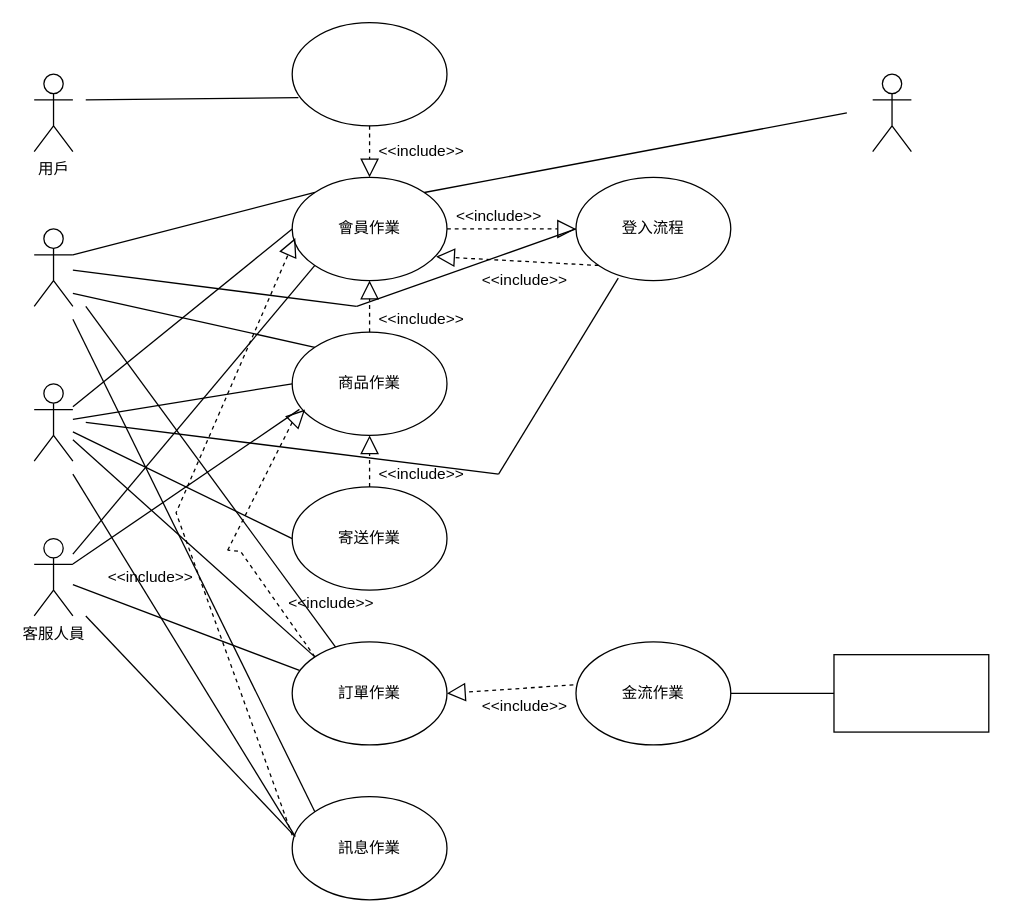
Some shapes in this 1011 by 922 pixel diagram are drawn without their labels. Each missing label, with the centre of its shape:
會員: point (53, 267)
系統人員: point (891, 112)
註冊流程: point (369, 73)
賣家: point (53, 421)
銀行: point (911, 692)
